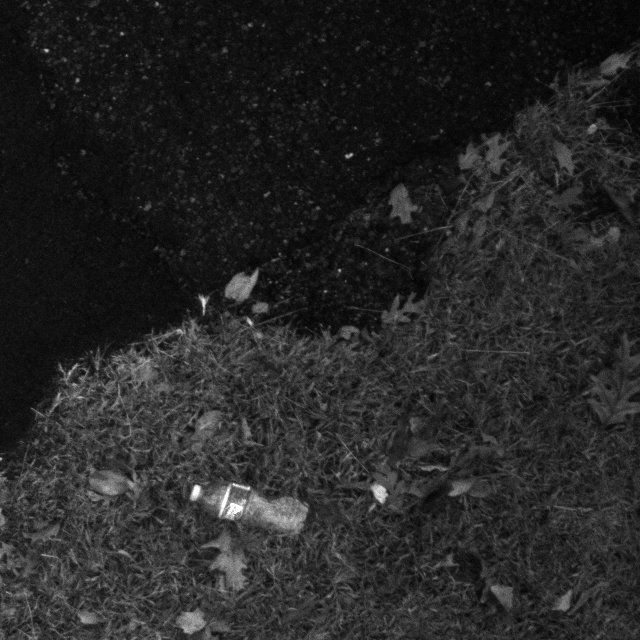bottle: (173, 470, 320, 547)
